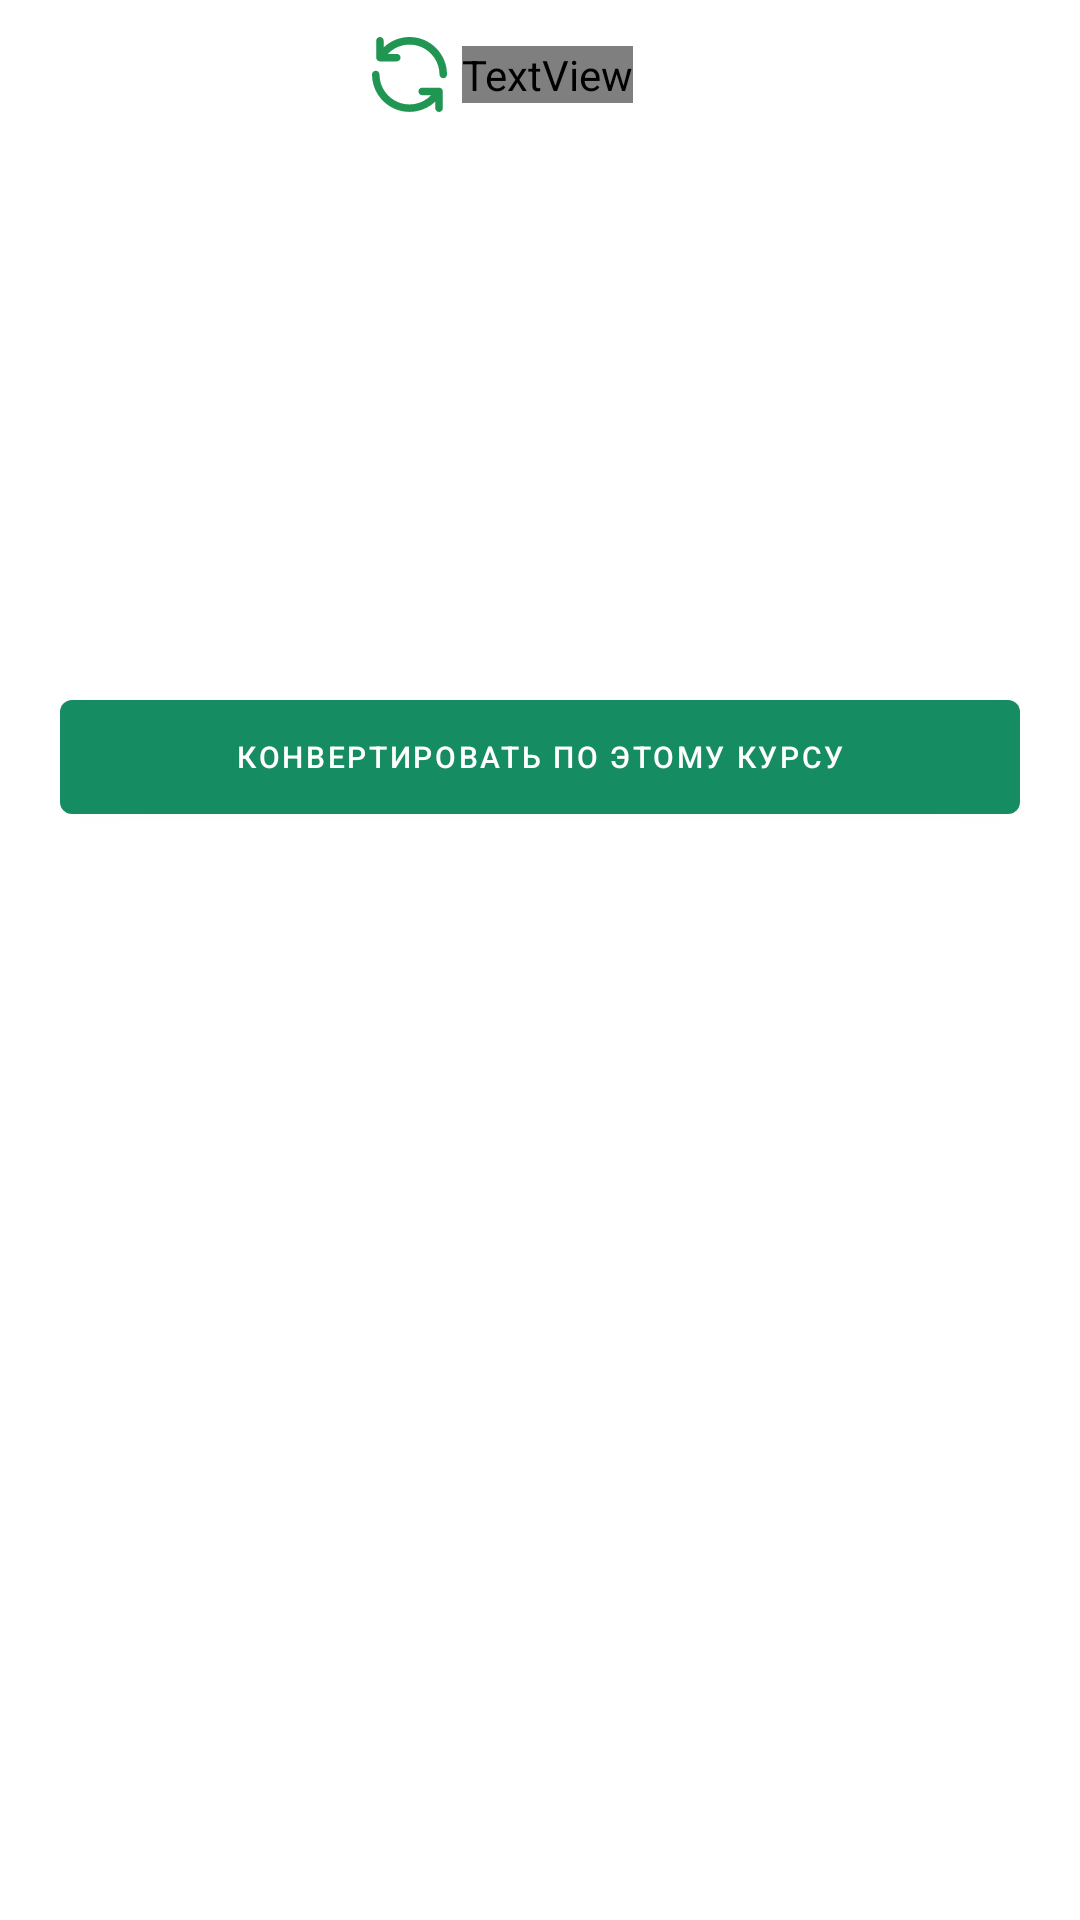

Locate icon controls on the screen. Image size 1080w x 1920h, boxes as (x1,y1,x2,y2).
refresh: (372,37,447,112)
